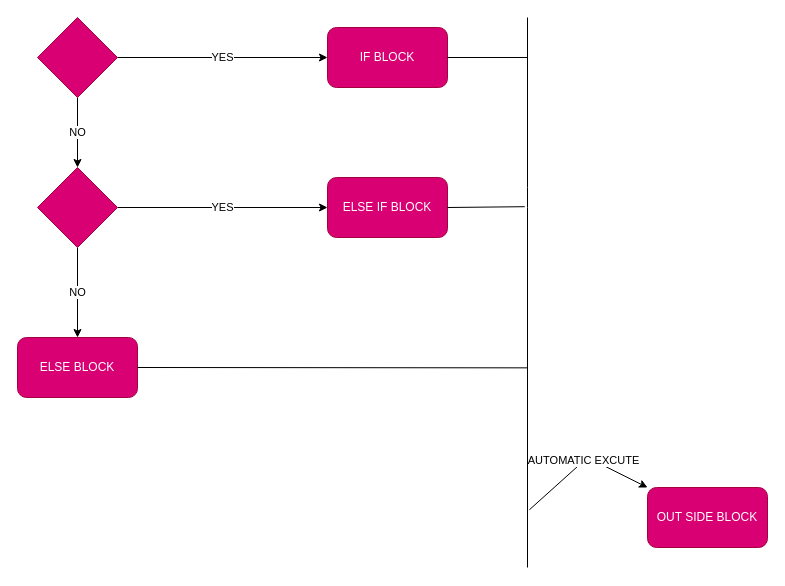
This 785x586 diagram has some shape labels left out. Here are the shapes that lost their labels. From the top down, the centre of each, then its label:
At pixel 77 57: "IF COND".
At pixel 77 207: "ELSE IF".
